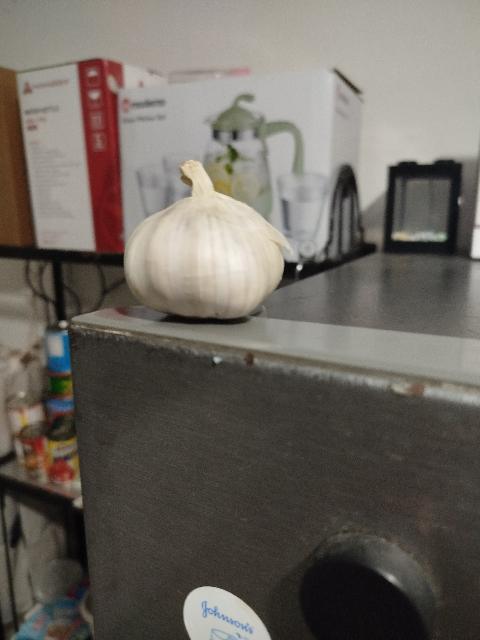garlic: (123, 158, 293, 320)
